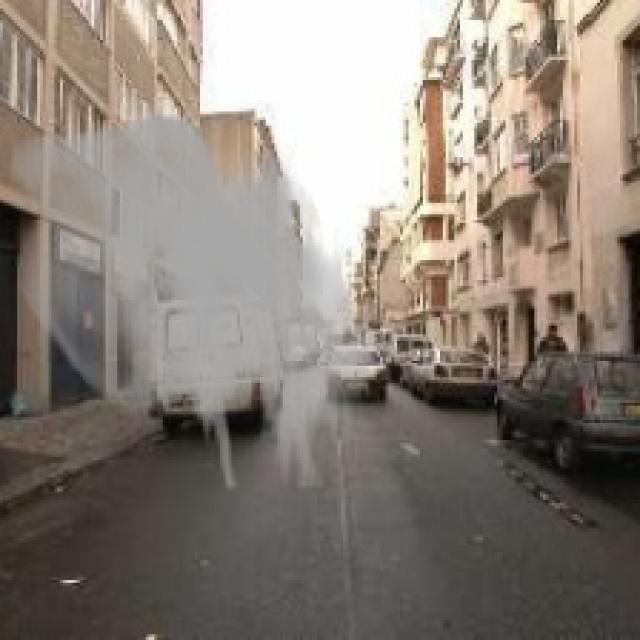Smoke: (8, 111, 380, 492)
